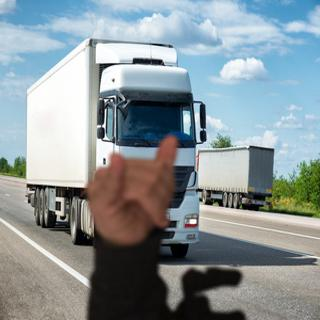HAVE: (77, 134, 189, 249)
